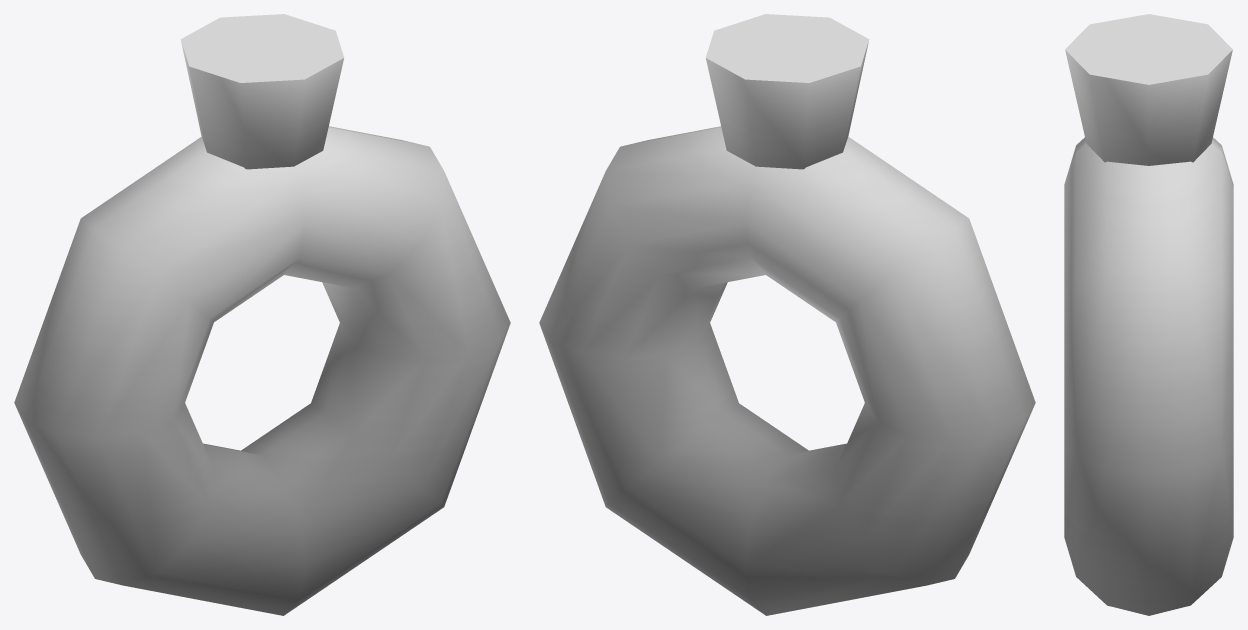
Rendered from stone_pommel_167.glb.
3 views of the same model, side by side, from view 1: azimuth 30°, elevation 25°; view 2: azimuth 150°, elevation 25°; view 3: azimuth 270°, elevation 25° (orthographic).
Visible parts, largest first — view 1: stone_pommel.167; view 2: stone_pommel.167; view 3: stone_pommel.167.
Part boxes in pixels (x1,y1,x2,y2): stone_pommel.167: (14, 14, 510, 615); stone_pommel.167: (539, 14, 1035, 615); stone_pommel.167: (1064, 14, 1233, 615).
Size of the model in its own units: 2.91 by 3.3 by 0.9081.
1 material, 1 textured.
